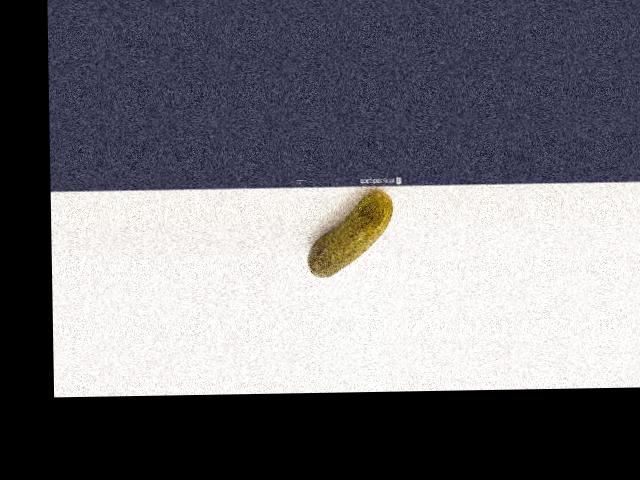cucumber: (305, 190, 394, 276)
